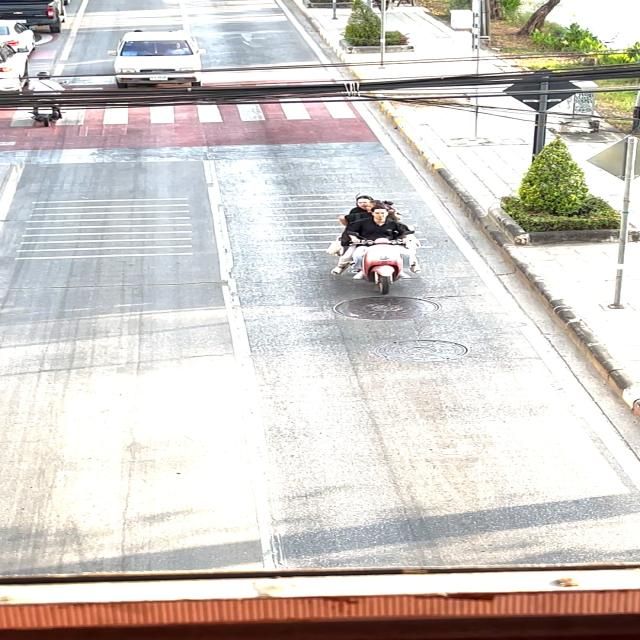car: (101, 24, 215, 97)
